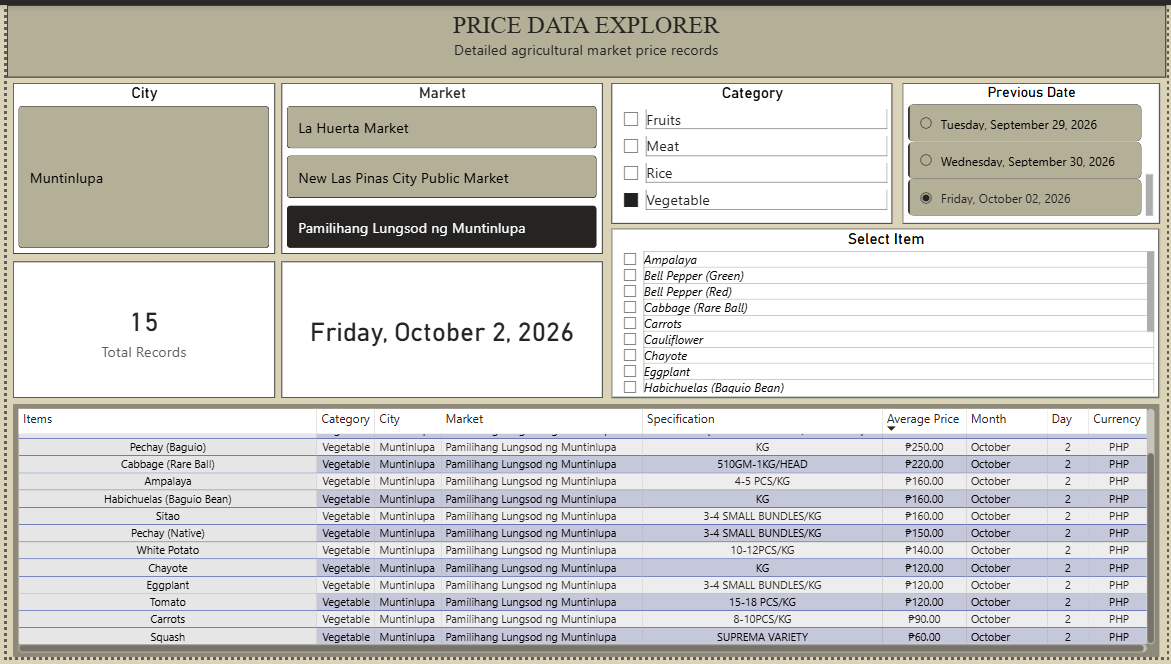

This screenshot's page, from the dashboard's own definition file:
{"tool":"powerbi","page":{"name":"PRICE DETAILS / DATA EXPLORER","canvas":[1280,720],"ordinal":2},"visuals":[{"type":"textbox","box":[0,0,1280,80],"z":0},{"type":"slicer","title":"Category","fields":{"Values":["agriproject_db vw_price_analysis.category_name"]},"box":[667.4,86.1,310.1,155.1],"z":1000},{"type":"advancedSlicerVisual","title":"City","fields":{"Values":["agriproject_db vw_price_analysis.city_name"]},"box":[6.3,86.1,289.3,188.6],"z":2000},{"type":"advancedSlicerVisual","title":"Market","fields":{"Values":["agriproject_db vw_price_analysis.market_name"]},"box":[303.8,86.1,354.6,188.6],"z":3000},{"type":"slicer","title":"Select Item","fields":{"Values":["agriproject_db vw_price_analysis.item_name"]},"box":[667.4,247.6,604.8,186.8],"z":4000},{"type":"listSlicer","title":"Previous Date ","fields":{"Values":["agriproject_db vw_price_analysis.price_date"]},"box":[988.4,86.1,283.8,155.1],"z":5000},{"type":"tableEx","fields":{"Values":["agriproject_db vw_price_analysis.item_name","agriproject_db vw_price_analysis.category_name","agriproject_db vw_price_analysis.city_name","agriproject_db vw_price_analysis.market_name","agriproject_db vw_price_analysis.specification","agriproject_db vw_price_analysis.Average Price","agriproject_db vw_price_analysis.price_date.Variation.Date Hierarchy.Month","agriproject_db vw_price_analysis.price_date.Variation.Date Hierarchy.Day","agriproject_db vw_price_analysis.currency"]},"box":[6.3,440.7,1265.9,279.3],"z":6000},{"type":"card","fields":{"Values":["agriproject_db vw_price_analysis.Total price records"]},"box":[6.3,283.8,289.3,150.5],"z":7000},{"type":"card","fields":{"Values":["agriproject_db vw_price_analysis.Latest Date"]},"box":[303.8,283.8,354.6,150.5],"z":8000}]}

Visuals, with their boxes in screenshot pixels (x1, y1, x2, y2), scaled from the page's 1280x720 canvas onto the 1171x664 screenshot:
textbox: (x1=0, y1=0, x2=1170, y2=74)
"Category" slicer: (x1=611, y1=79, x2=894, y2=222)
"City" advancedSlicerVisual: (x1=6, y1=79, x2=270, y2=253)
"Market" advancedSlicerVisual: (x1=278, y1=79, x2=602, y2=253)
"Select Item" slicer: (x1=611, y1=228, x2=1164, y2=401)
"Previous Date " listSlicer: (x1=904, y1=79, x2=1164, y2=222)
tableEx - agriproject_db vw_price_analysis.item_name x agriproject_db vw_price_analysis.category_name: (x1=6, y1=406, x2=1164, y2=663)
card - agriproject_db vw_price_analysis.Total price records: (x1=6, y1=262, x2=270, y2=401)
card - agriproject_db vw_price_analysis.Latest Date: (x1=278, y1=262, x2=602, y2=401)
